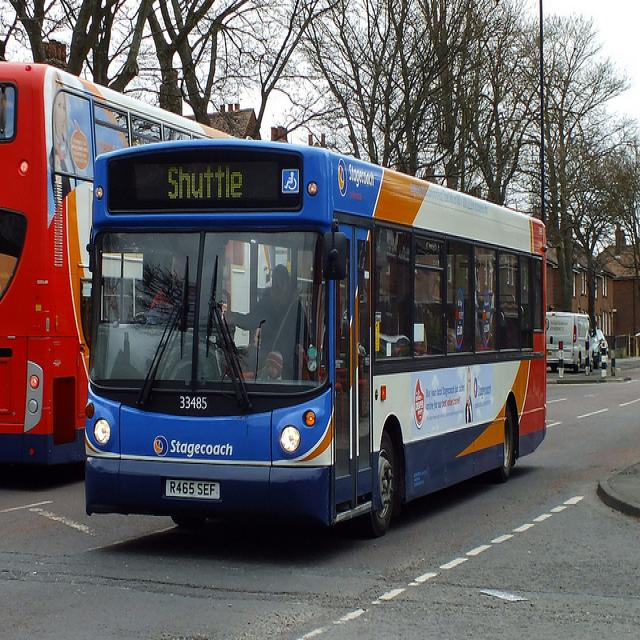Vehicle: (84, 138, 546, 536), (1, 64, 240, 474), (548, 310, 590, 372), (591, 328, 608, 369)
